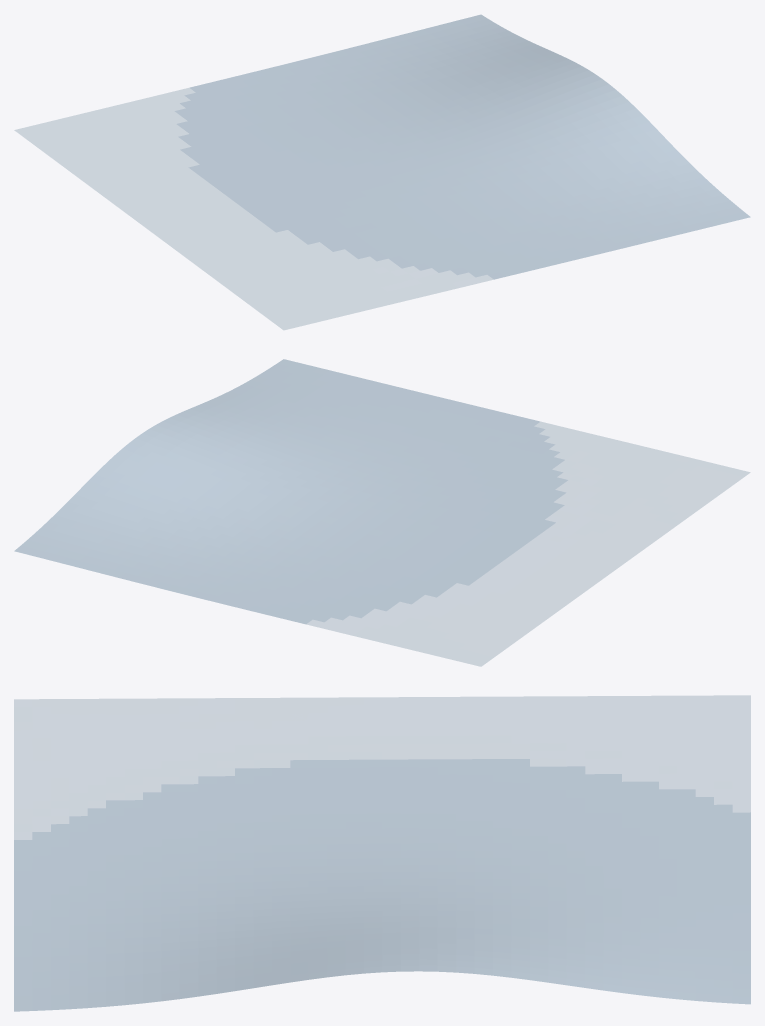
The model's file is Ground_1_-1.fbx.
3 renders of one model, top to bottom at view 1: azimuth 30°, elevation 25°; view 2: azimuth 150°, elevation 25°; view 3: azimuth 270°, elevation 25°, orthographic. The views are drawn at different scales.
Parts seen in each view (by area): view 1: Ground_1_-1; view 2: Ground_1_-1; view 3: Ground_1_-1.
Boxes of the visible parts, x1,y1,x2,y2 form: Ground_1_-1: [14, 14, 750, 330]; Ground_1_-1: [14, 359, 750, 666]; Ground_1_-1: [14, 695, 750, 1011].
Bounding box in the file's own units: 40000 × 2412 × 40000.
